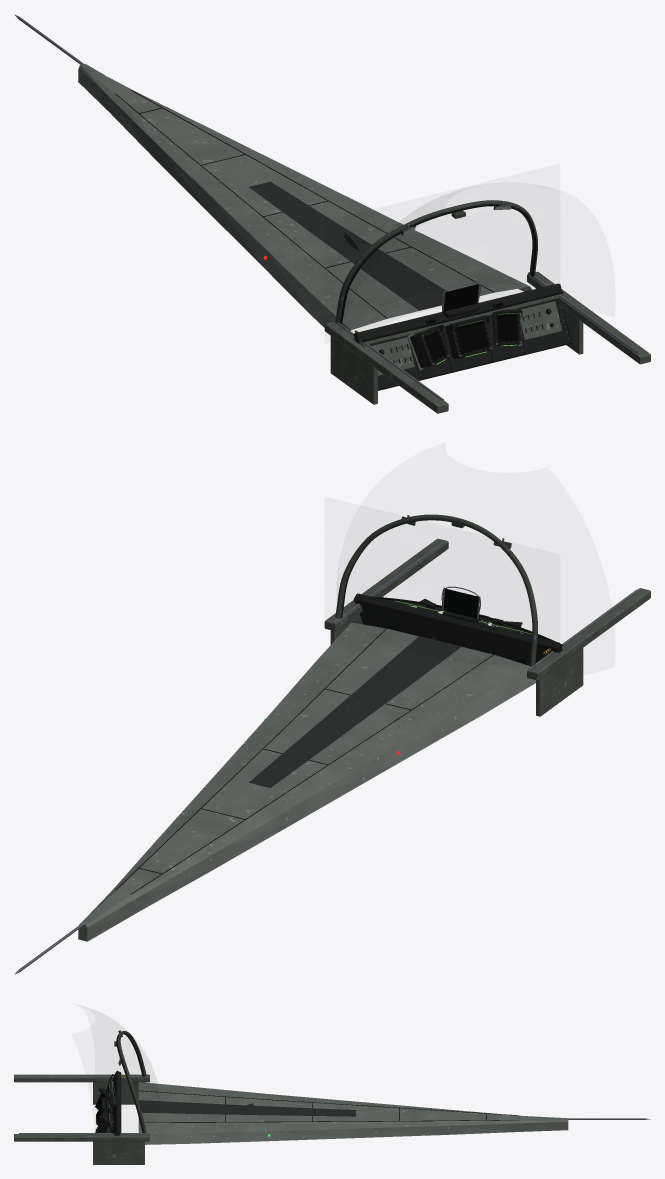
The model's file is cockpit_blade.glb.
3 views of the same model, one above another, from view 1: azimuth 30°, elevation 25°; view 2: azimuth 150°, elevation 25°; view 3: azimuth 270°, elevation 25° (orthographic). The views are drawn at different scales.
Visible parts, largest first — view 1: Nose_M_PaintNose, Dash_M_Crinkle, Nose_M_AntiSlip, Side_L_M_Paint, Dash_M_Paint, Side_R_M_Paint, Console_M_Crinkle, Frame_M_PaintDark, Nose_M_Dark_NoShadow, Frame_M_Rubber, Screen_Radar, Screen_HUD (+2 smaller); view 2: Nose_M_PaintNose, Nose_M_AntiSlip, Dash_M_Crinkle, Side_L_M_Paint, Frame_M_PaintDark, Side_R_M_Paint, Nose_M_Dark_NoShadow, Screen_HUD; view 3: Nose_M_PaintNose, Side_R_M_Paint, Nose_M_AntiSlip, Side_L_M_Paint, Nose_M_Dark_NoShadow, Frame_M_PaintDark, Dash_M_Crinkle, Console_M_Crinkle.
Boxes of the visible parts, box(x1,y1,x2,y2) form: Nose_M_PaintNose: box(78, 63, 531, 330); Dash_M_Crinkle: box(353, 283, 572, 390); Nose_M_AntiSlip: box(249, 181, 447, 310); Side_L_M_Paint: box(324, 321, 448, 413); Dash_M_Paint: box(361, 293, 562, 375); Side_R_M_Paint: box(527, 271, 650, 364); Console_M_Crinkle: box(410, 304, 522, 367); Frame_M_PaintDark: box(335, 200, 537, 322); Nose_M_Dark_NoShadow: box(115, 90, 494, 318); Frame_M_Rubber: box(340, 204, 536, 323); Screen_Radar: box(456, 322, 488, 352); Screen_HUD: box(443, 284, 478, 311); Nose_M_PaintNose: box(78, 622, 535, 941); Nose_M_AntiSlip: box(248, 636, 461, 787); Dash_M_Crinkle: box(353, 593, 562, 666); Side_L_M_Paint: box(527, 588, 650, 716); Frame_M_PaintDark: box(335, 514, 537, 665); Side_R_M_Paint: box(324, 538, 448, 644); Nose_M_Dark_NoShadow: box(115, 628, 494, 894); Screen_HUD: box(443, 589, 478, 618); Nose_M_PaintNose: box(138, 1082, 568, 1144); Side_R_M_Paint: box(14, 1133, 149, 1164); Nose_M_AntiSlip: box(138, 1100, 355, 1116); Side_L_M_Paint: box(14, 1074, 149, 1104); Nose_M_Dark_NoShadow: box(139, 1090, 518, 1122); Frame_M_PaintDark: box(114, 1030, 146, 1133); Dash_M_Crinkle: box(106, 1070, 121, 1135); Console_M_Crinkle: box(95, 1088, 117, 1132).
Size of the model in its own units: 1.77 by 1.17 by 5.86.
31 materials, 8 textured.
